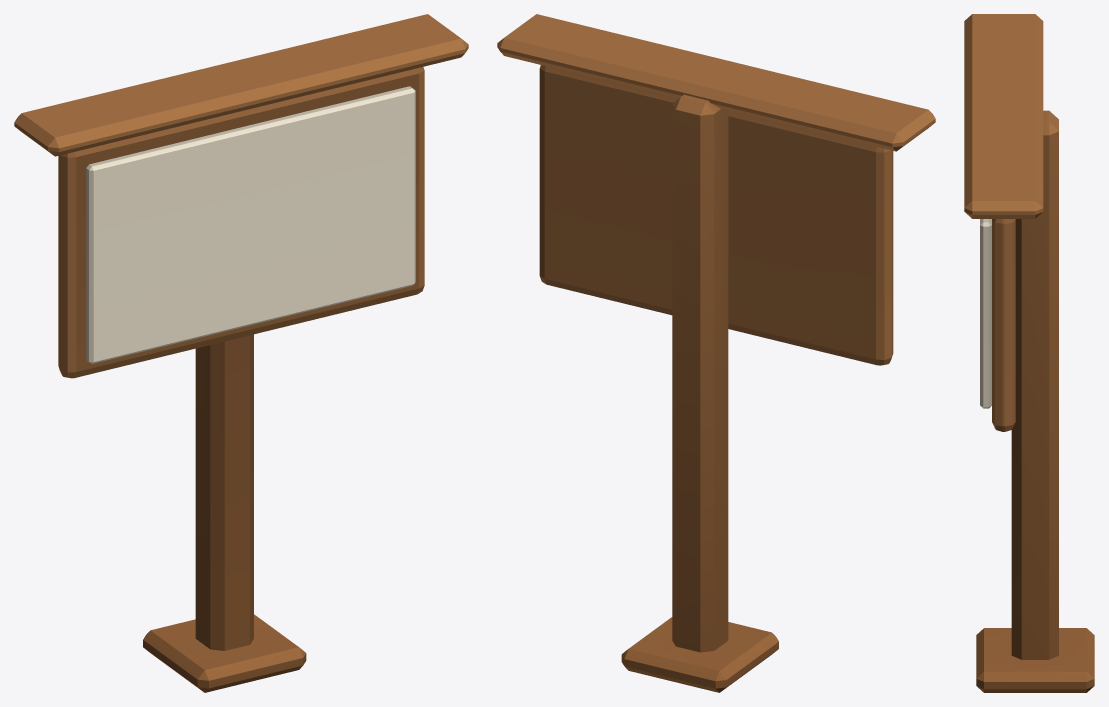
Rendered from papan.glb.
3 views of the same model, side by side, from view 1: azimuth 30°, elevation 25°; view 2: azimuth 150°, elevation 25°; view 3: azimuth 270°, elevation 25° (orthographic). The views are drawn at different scales.
Visible parts, largest first — view 1: Board, papan_mesh; view 2: papan_mesh; view 3: papan_mesh, Board.
Part boxes in pixels (left/top/right/bottom): Board: left=86, top=86, right=415, bottom=363; papan_mesh: left=14, top=14, right=468, bottom=692; papan_mesh: left=497, top=14, right=935, bottom=692; papan_mesh: left=964, top=14, right=1094, bottom=692; Board: left=980, top=219, right=991, bottom=408.
Bounding box in the file's own units: 1.16 × 1.57 × 0.33.
